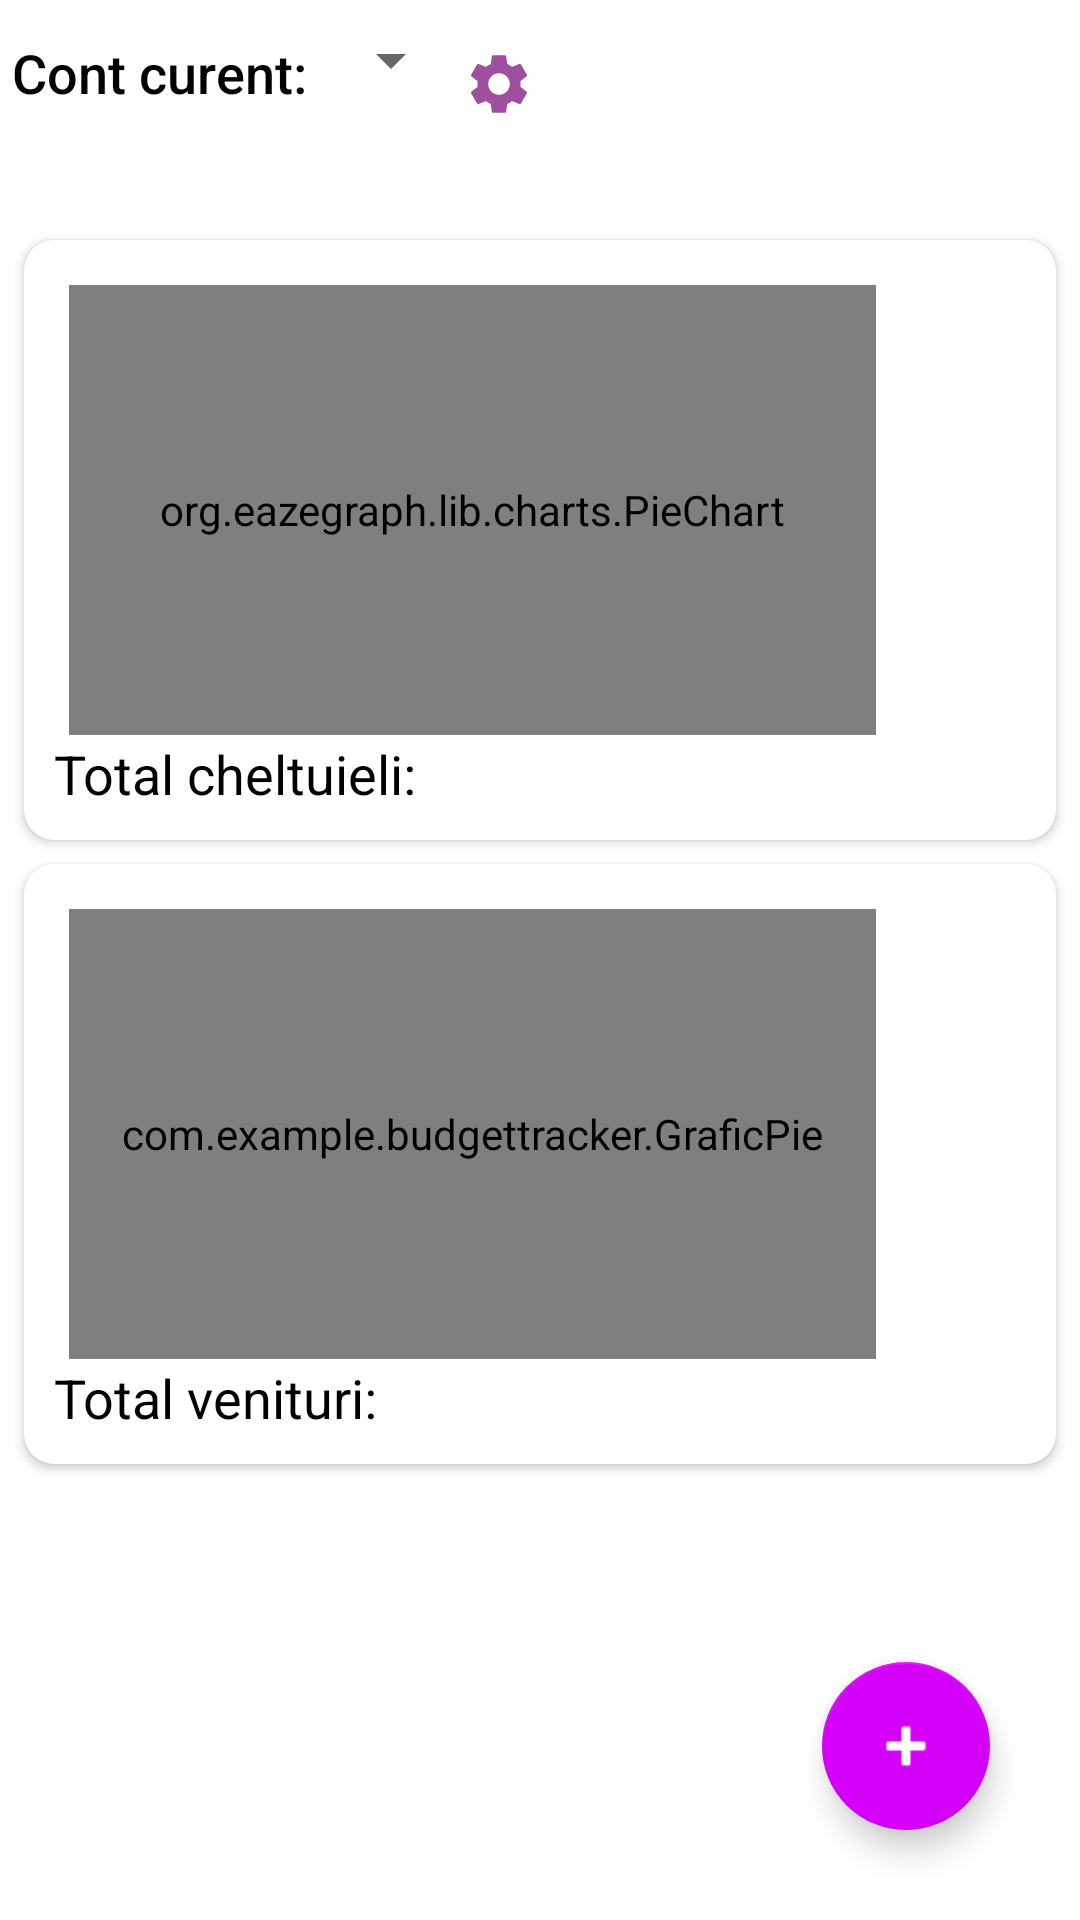

Locate icon controls on the screen. Image size 1080w x 1920h, boxes as box(x1, y1, x2, y2).
add: box(822, 1662, 990, 1830)
settings: box(471, 55, 527, 113)
